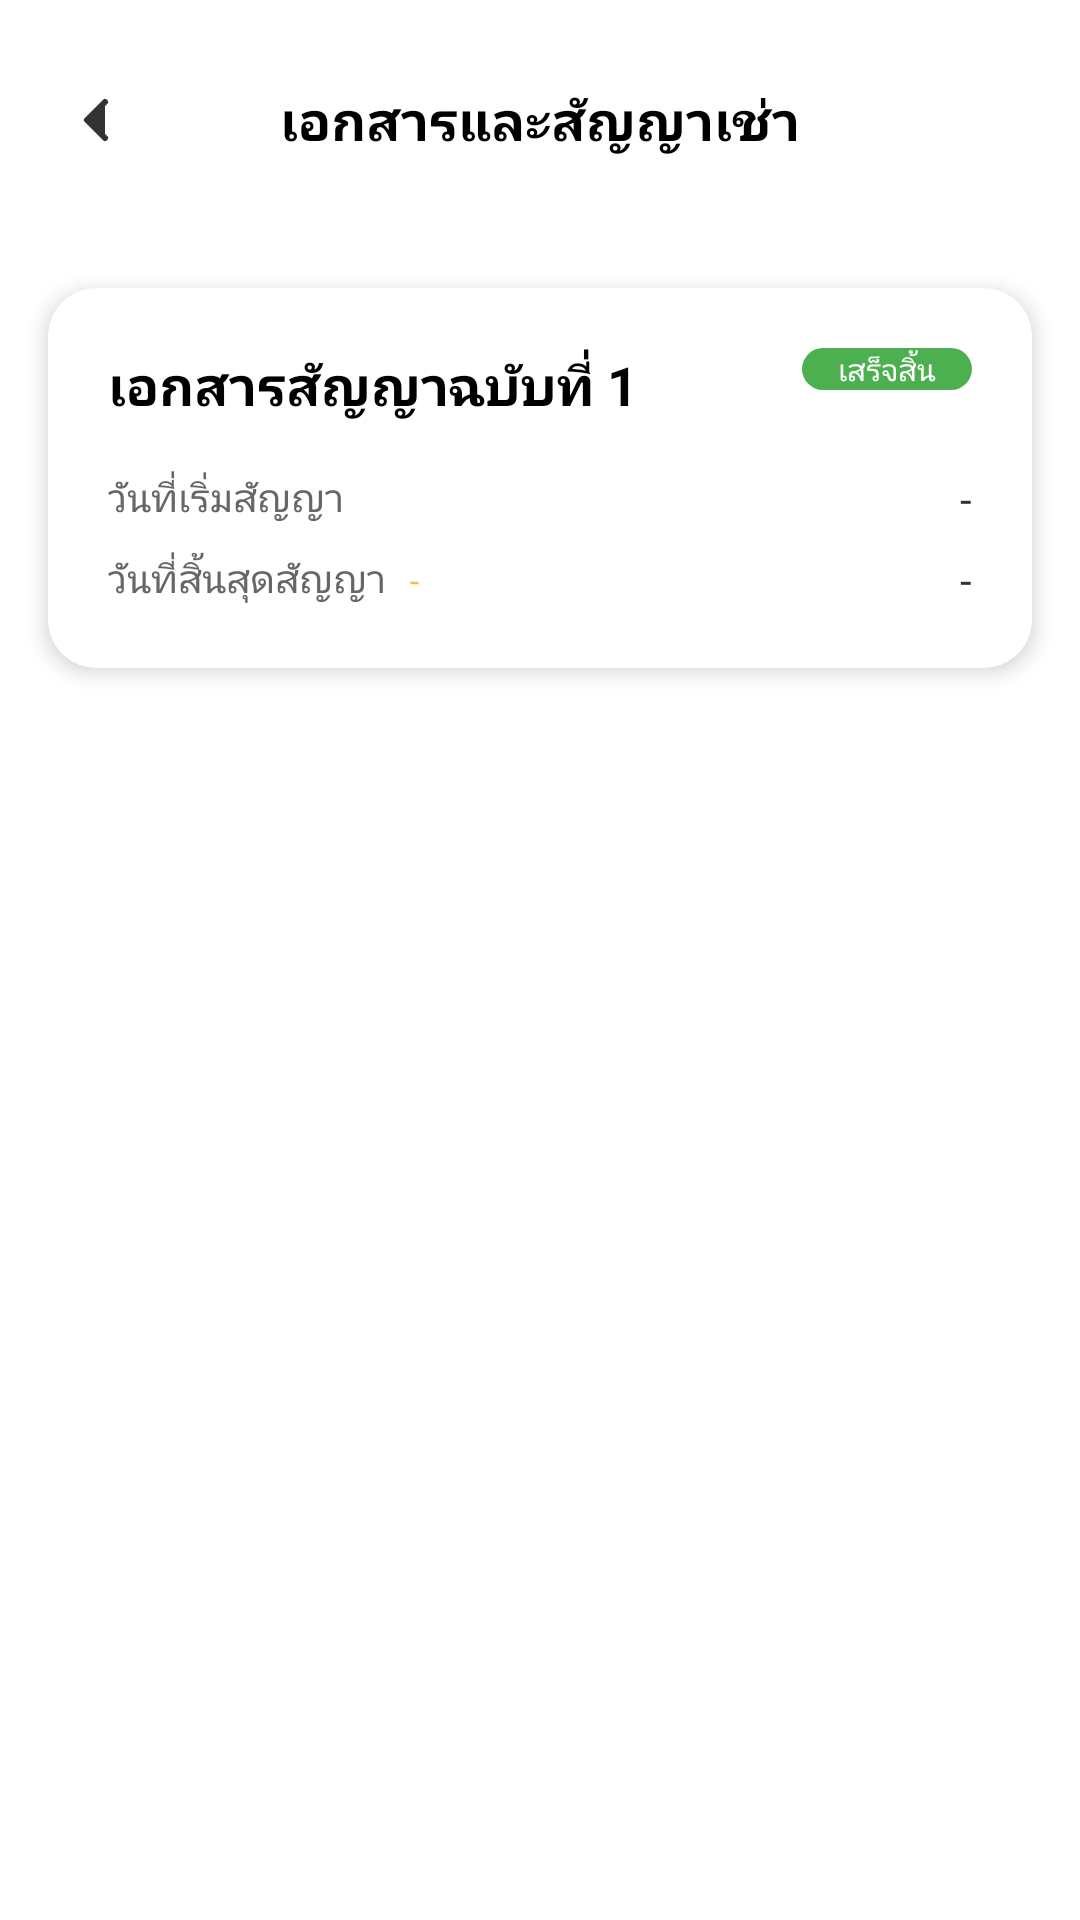

Point at icon controls on the screen. Image size 1080×1920, points as point (x, y).
back gg: point (96, 120)
